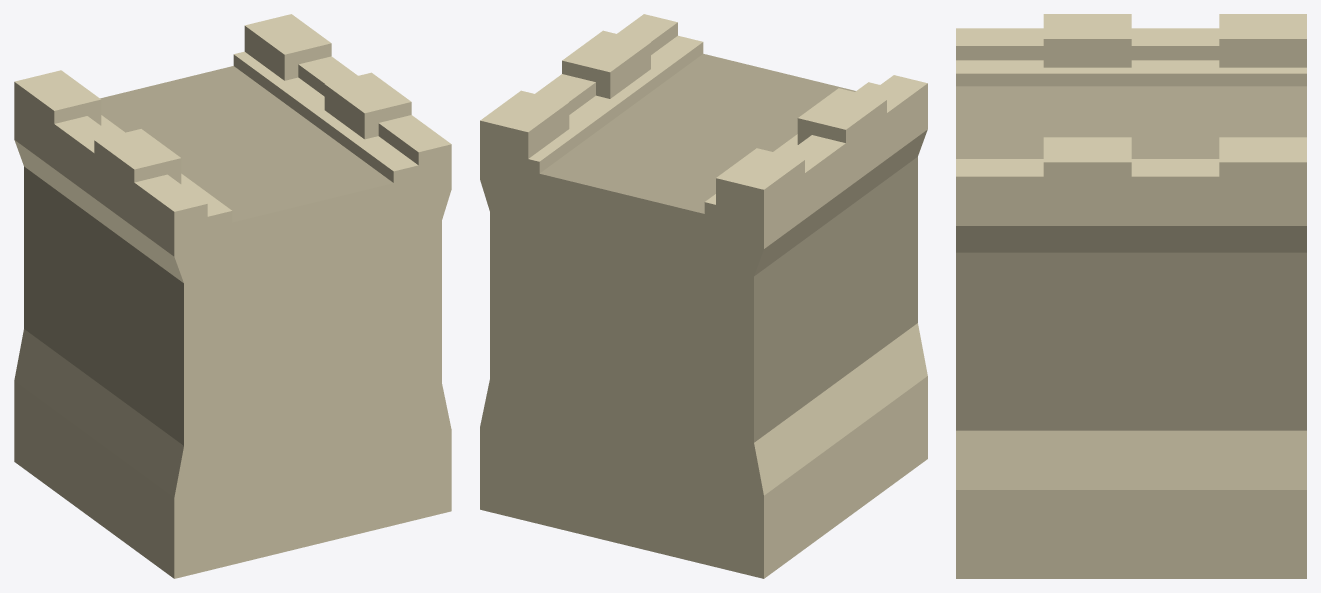
The model's file is wall.fbx.
3 renders of one model, left to right at view 1: azimuth 30°, elevation 25°; view 2: azimuth 150°, elevation 25°; view 3: azimuth 270°, elevation 25°, orthographic. The views are drawn at different scales.
Parts seen in each view (by area): view 1: wall; view 2: wall; view 3: wall.
Part boxes in pixels (x1,y1,x2,y2): wall: (14,14,451,578); wall: (480,14,927,578); wall: (956,14,1306,578).
Size of the model in its own units: 10 by 13.1 by 10.
